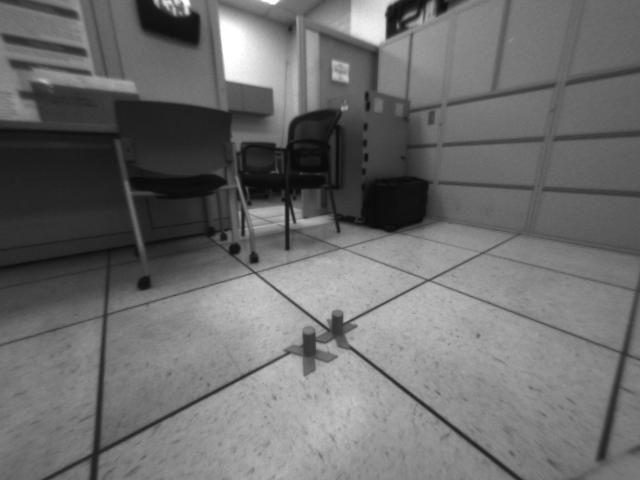X: (283, 325, 339, 377), (314, 306, 360, 351)
